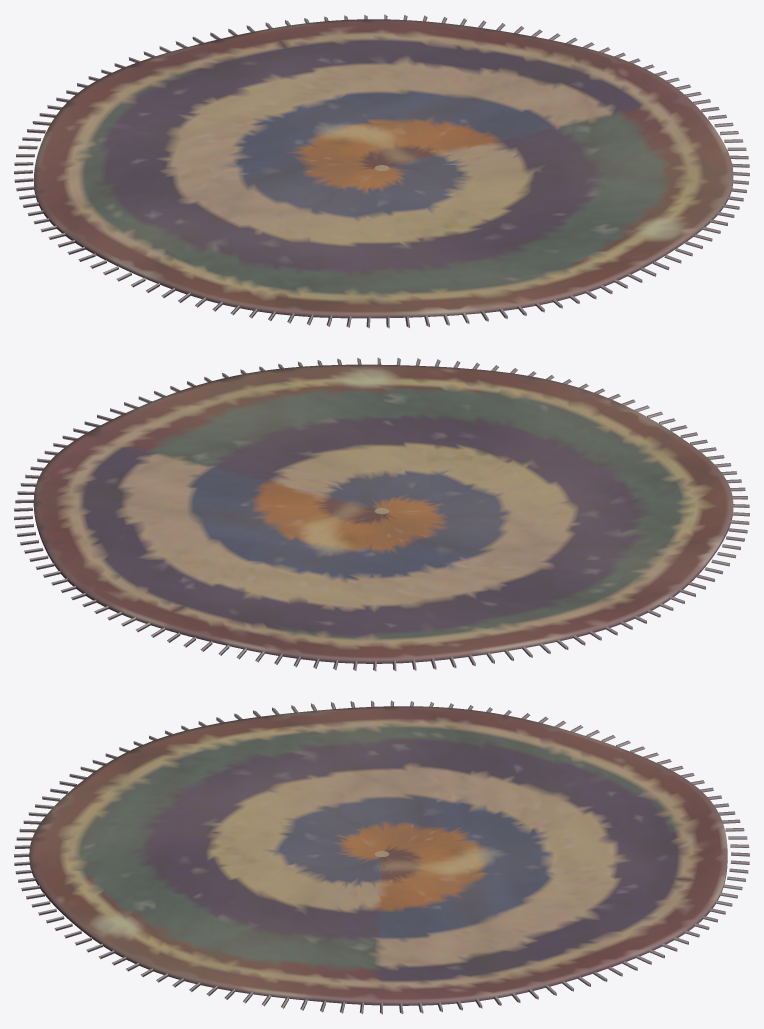
File: spiral_hali.glb
3 views of the same model, one above another, from view 1: azimuth 30°, elevation 25°; view 2: azimuth 150°, elevation 25°; view 3: azimuth 270°, elevation 25° (orthographic).
Parts seen in each view (by area): view 1: spiral_hali_LOD0; view 2: spiral_hali_LOD0; view 3: spiral_hali_LOD0.
Boxes of the visible parts, left/top/right/bottom form: spiral_hali_LOD0: left=14, top=14, right=749, bottom=328; spiral_hali_LOD0: left=14, top=357, right=749, bottom=671; spiral_hali_LOD0: left=14, top=700, right=749, bottom=1014.
Size of what is drawn, in the model's own units: 2.74 by 0.0211 by 2.74.
